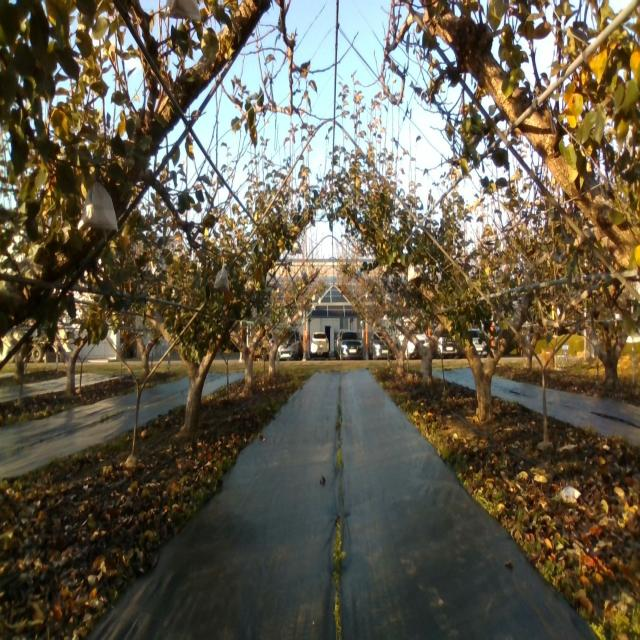pearbags: (77, 179, 118, 231), (213, 265, 230, 291), (408, 264, 418, 283)
